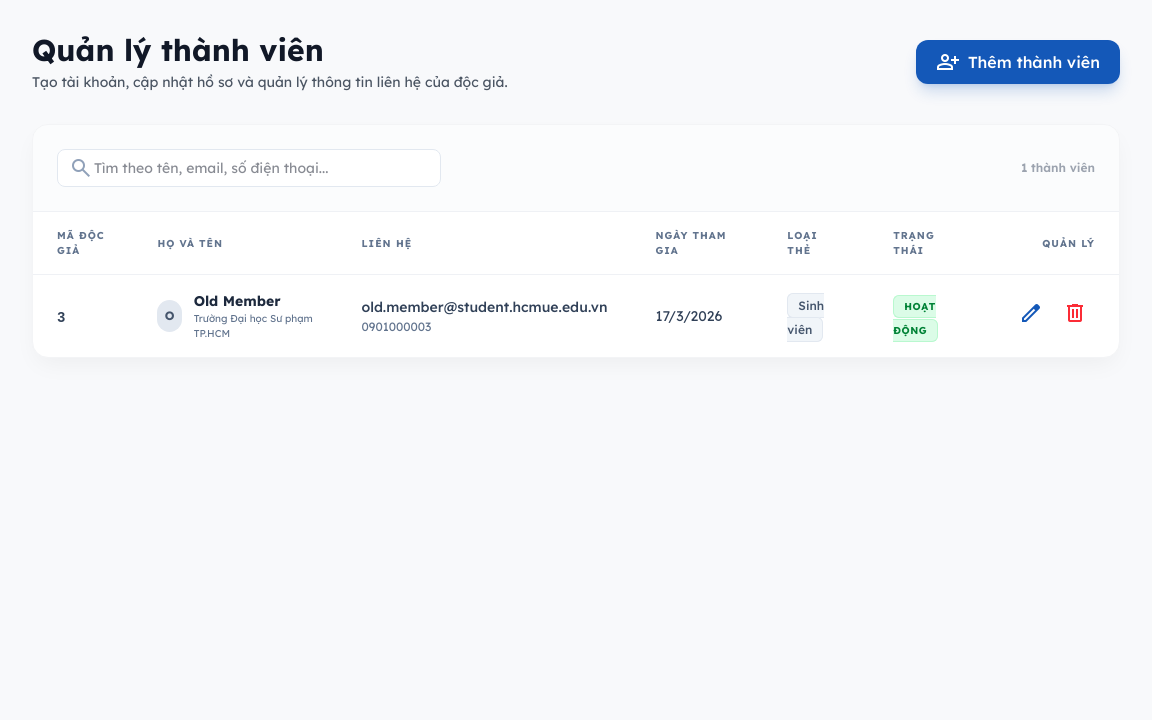
Test: AdminMembers › updates a member without requiring a password change
This screenshot has width=1152, height=720.
Check: the text "Old Member" is shown, box [194,292,280,310]
Click the button named "Chỉnh sửa Old Member": click(1031, 316) [1011,293,1051,339]
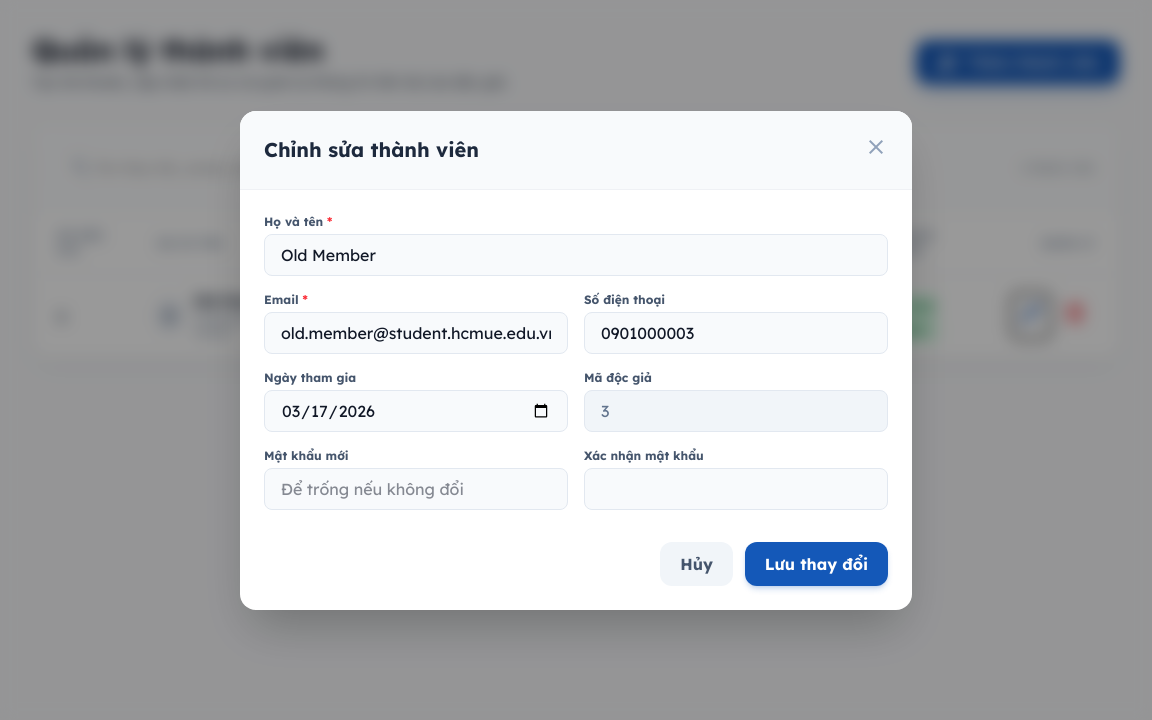
Replace the text in the field labelled "Họ và tên *" with "Updated Member": (576, 254) [264,234,888,276]
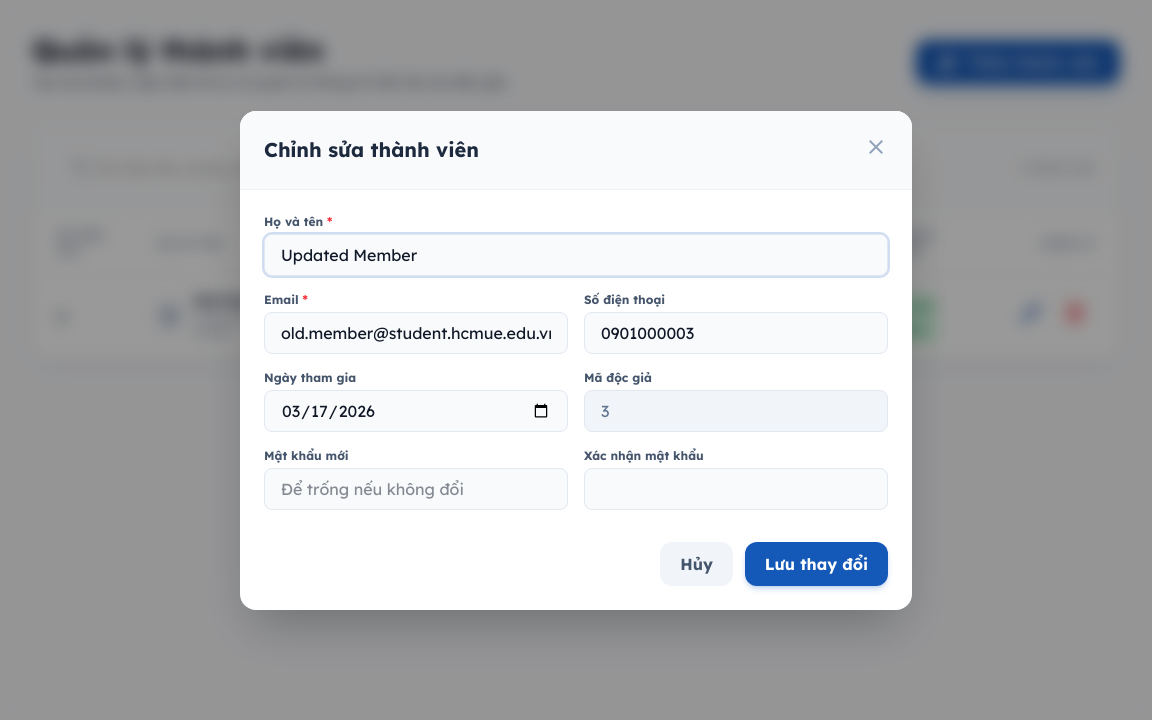
Replace the text in the field labelled "Số điện thoại" with "0901888888": (736, 332) [584,312,888,354]
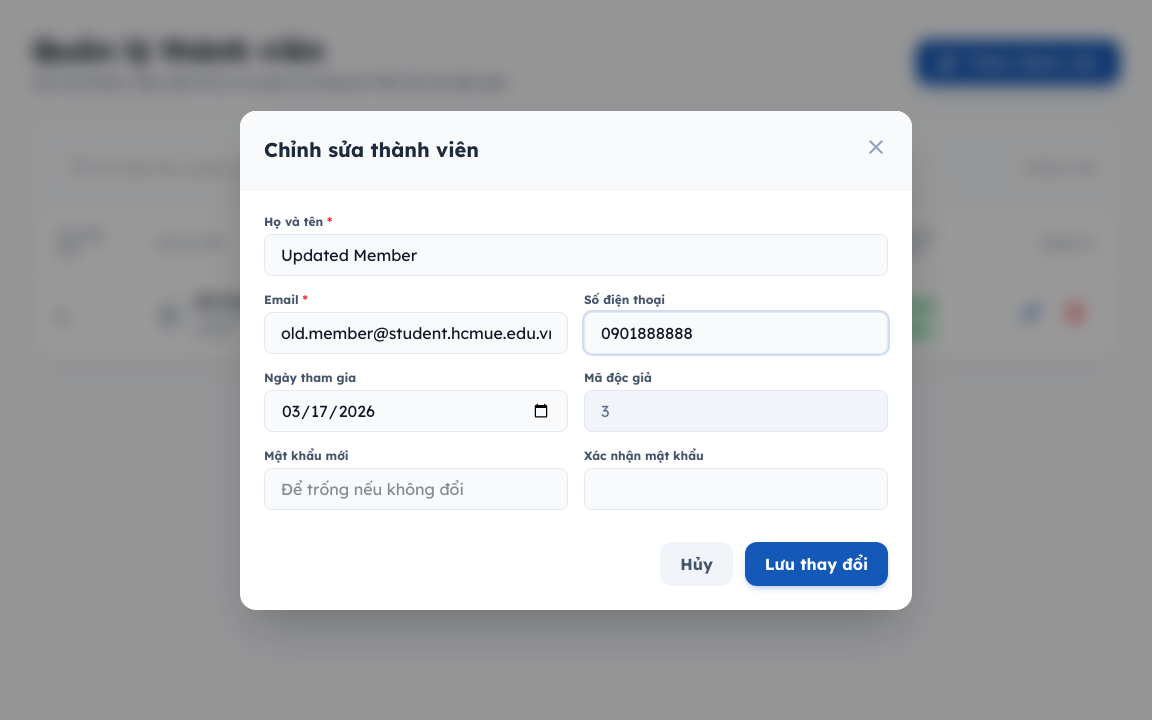
Click the button "Lưu thay đổi": click(816, 564) [745,542,888,586]
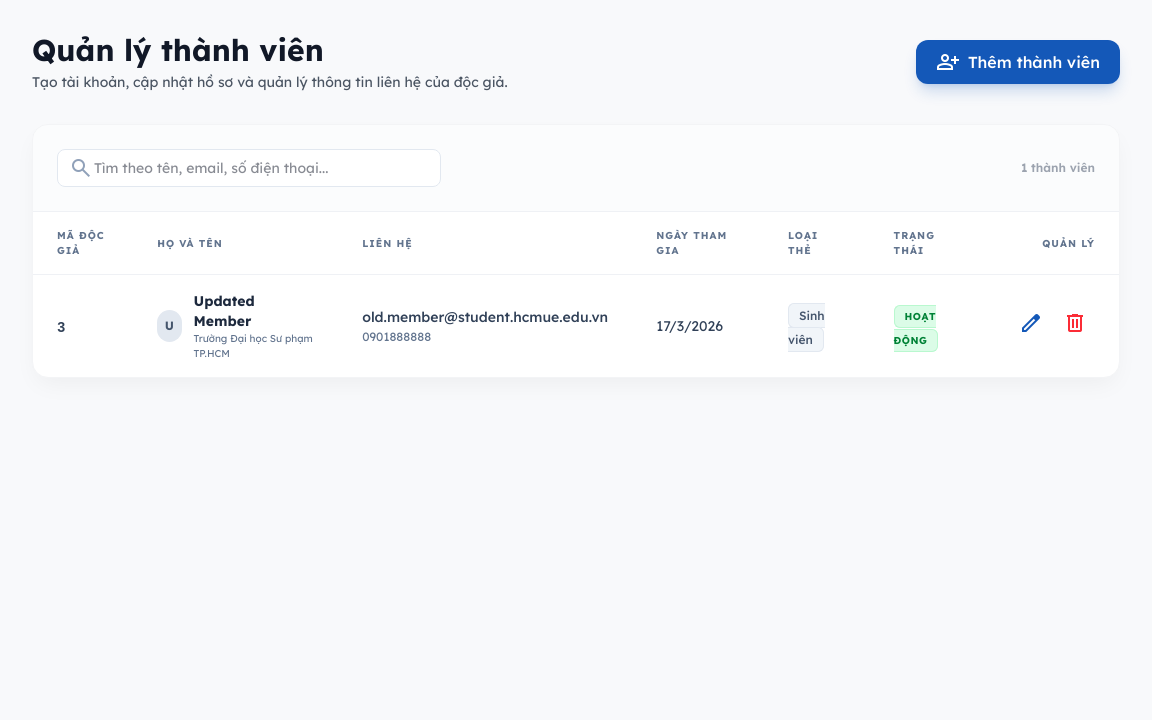
Check: the text "Updated Member" is shown, box [194,292,255,330]
